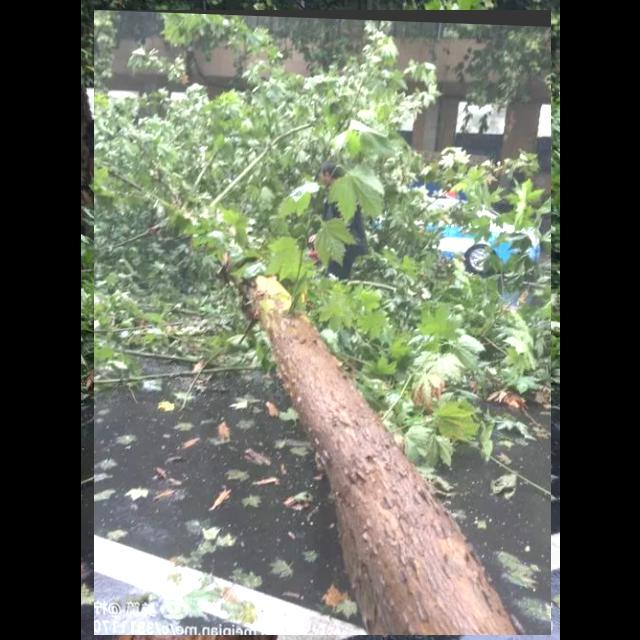fallen_tree: (94, 10, 552, 636)
